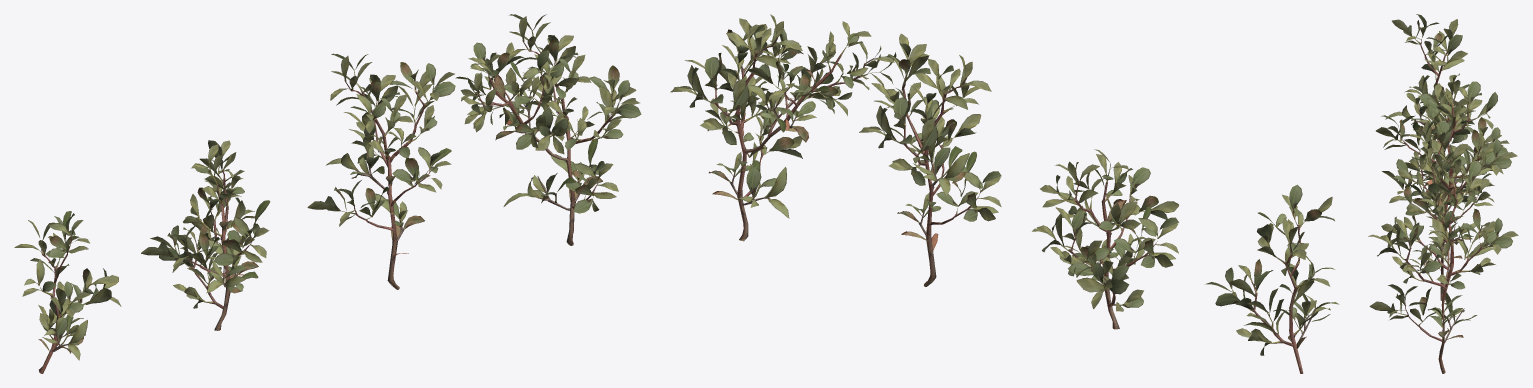
The model's file is shrub_04_lod0.glb.
3 views of the same model, side by side, from view 1: azimuth 30°, elevation 25°; view 2: azimuth 150°, elevation 25°; view 3: azimuth 270°, elevation 25° (orthographic). The views are drawn at different scales.
Parts seen in each view (by area): view 1: shrub_04; view 2: shrub_04; view 3: shrub_04.
Boxes of the visible parts, x1,y1,x2,y2 form: shrub_04: [14, 14, 641, 373]; shrub_04: [670, 14, 1339, 373]; shrub_04: [1368, 14, 1518, 373].
Size of the model in its own units: 0.5837 by 0.2192 by 0.1461.
Materials: 1 (1 with a texture image).
